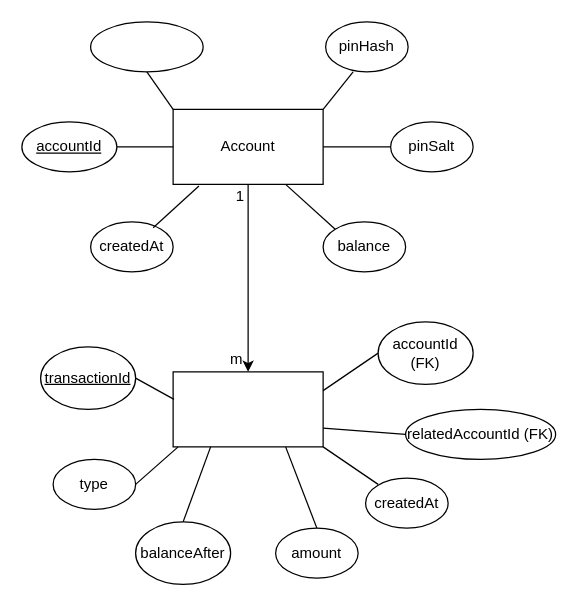
Some shapes in this 578 by 606 pixel diagram are drawn without their labels. The centre of each missing label's shape, as x and y in pixels:
"accountHolder" belongs at [146,46].
"TransactionRecord" belongs at [247,409].
